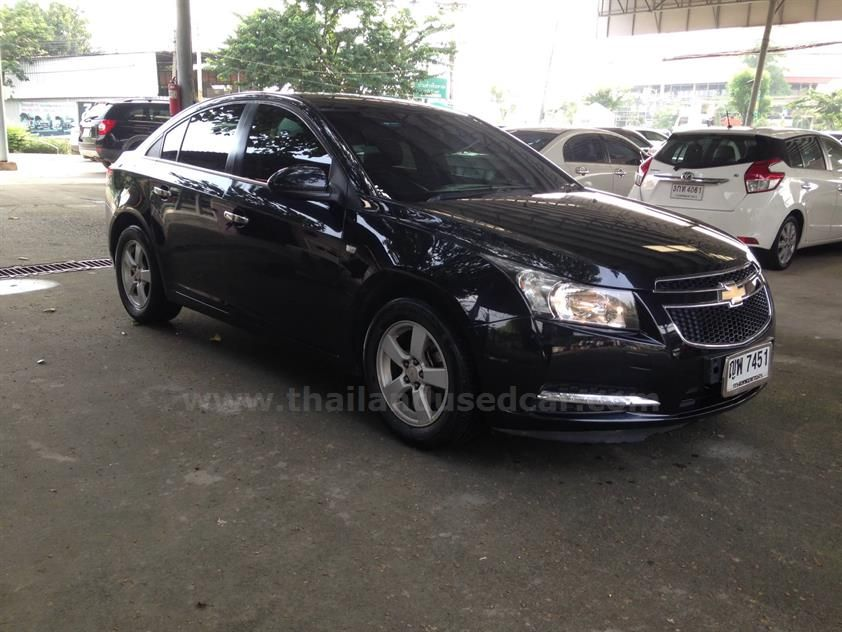sedan: (102, 91, 779, 449)
